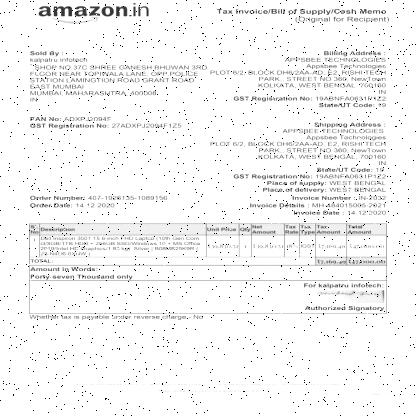Paragraph: (206, 120, 388, 218), (209, 48, 388, 108), (27, 48, 208, 104), (67, 379, 344, 395), (212, 4, 394, 26), (26, 112, 185, 132), (25, 192, 172, 211), (35, 0, 154, 21), (30, 266, 134, 281), (27, 314, 205, 322), (302, 305, 385, 313), (302, 282, 386, 289), (368, 391, 394, 397)
Table: (28, 223, 387, 265)
